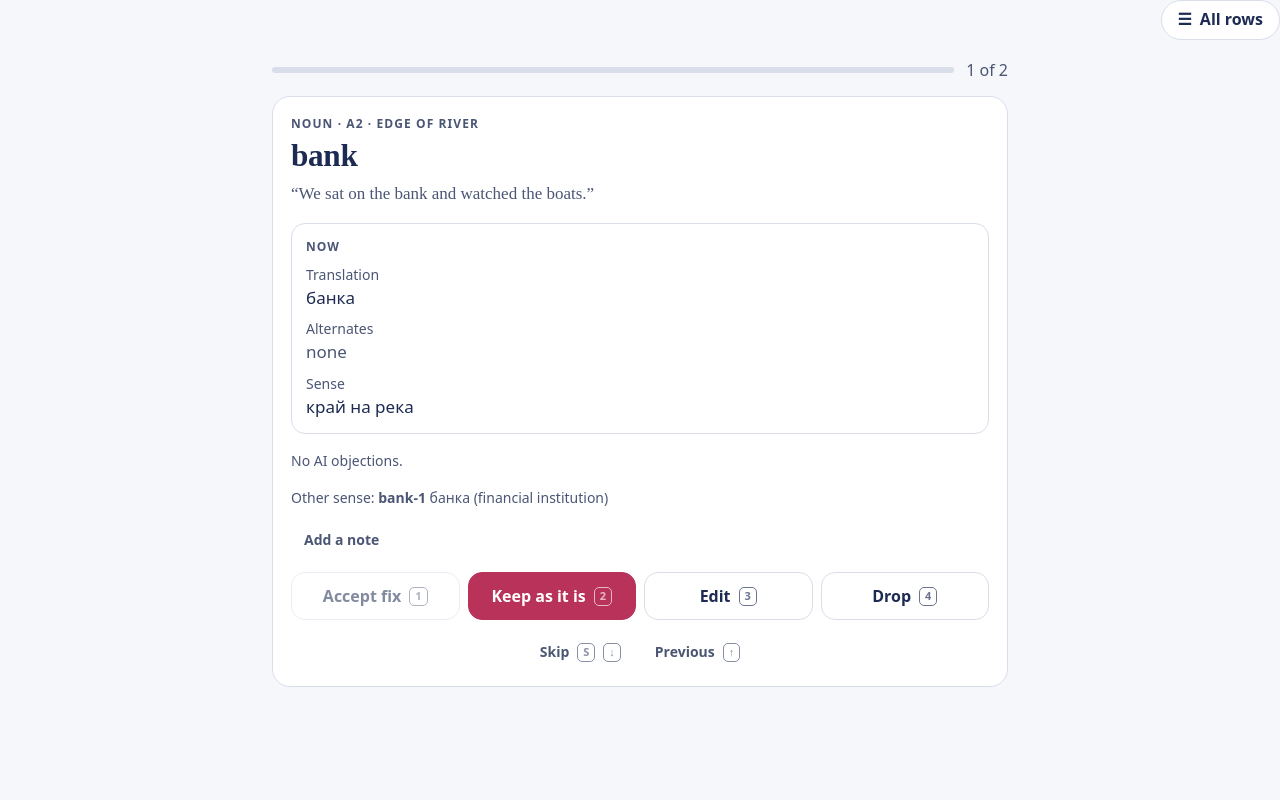
Test: ReviewScreen › has no row list while a row is being edited: All rows is disabled and L does nothing
Click the button "Edit 3". click: (728, 596)
box: x1=644 y1=572 x2=812 y2=620
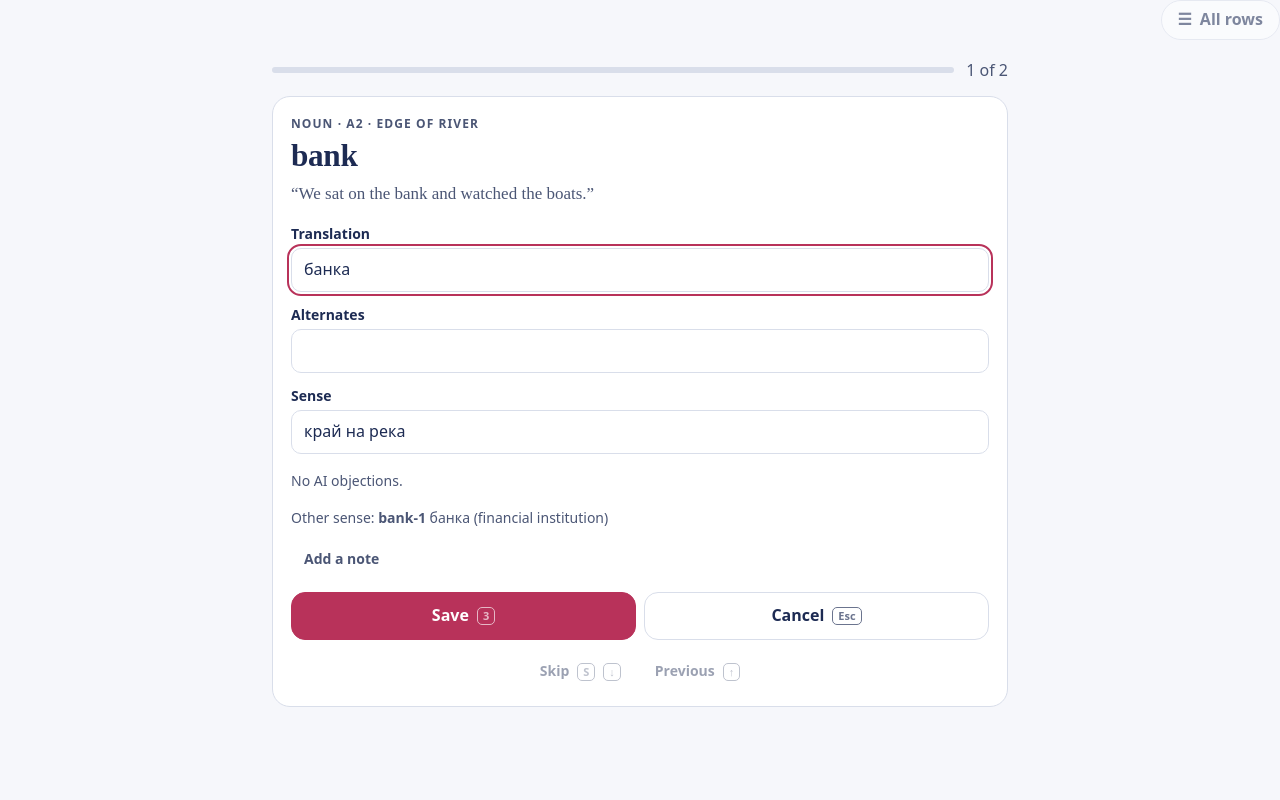
Replace the text in the field labelled "Translation" with "речен бряг". click: (640, 270)
box: x1=291 y1=248 x2=989 y2=292
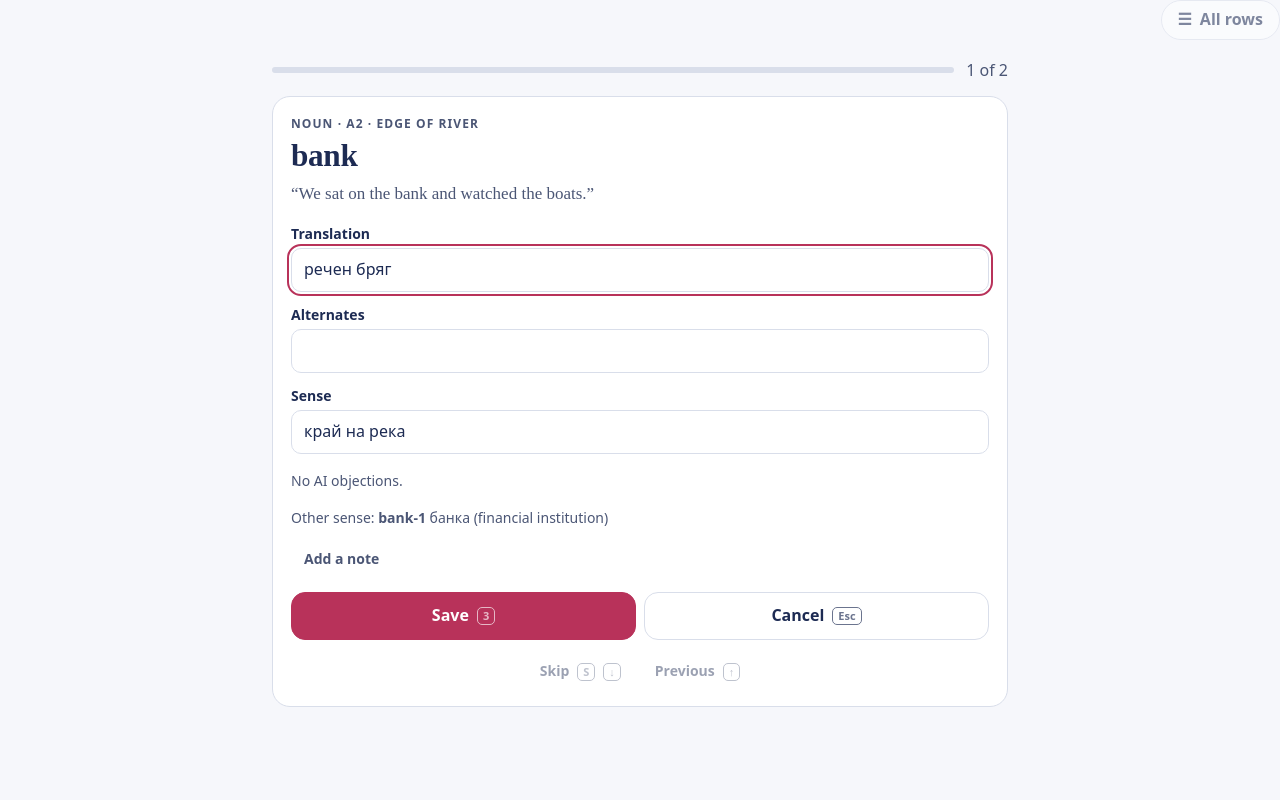
expect the button "☰ All rows" is disabled: met, box x1=1160 y1=0 x2=1279 y2=40
Press l
Press L
Press Escape
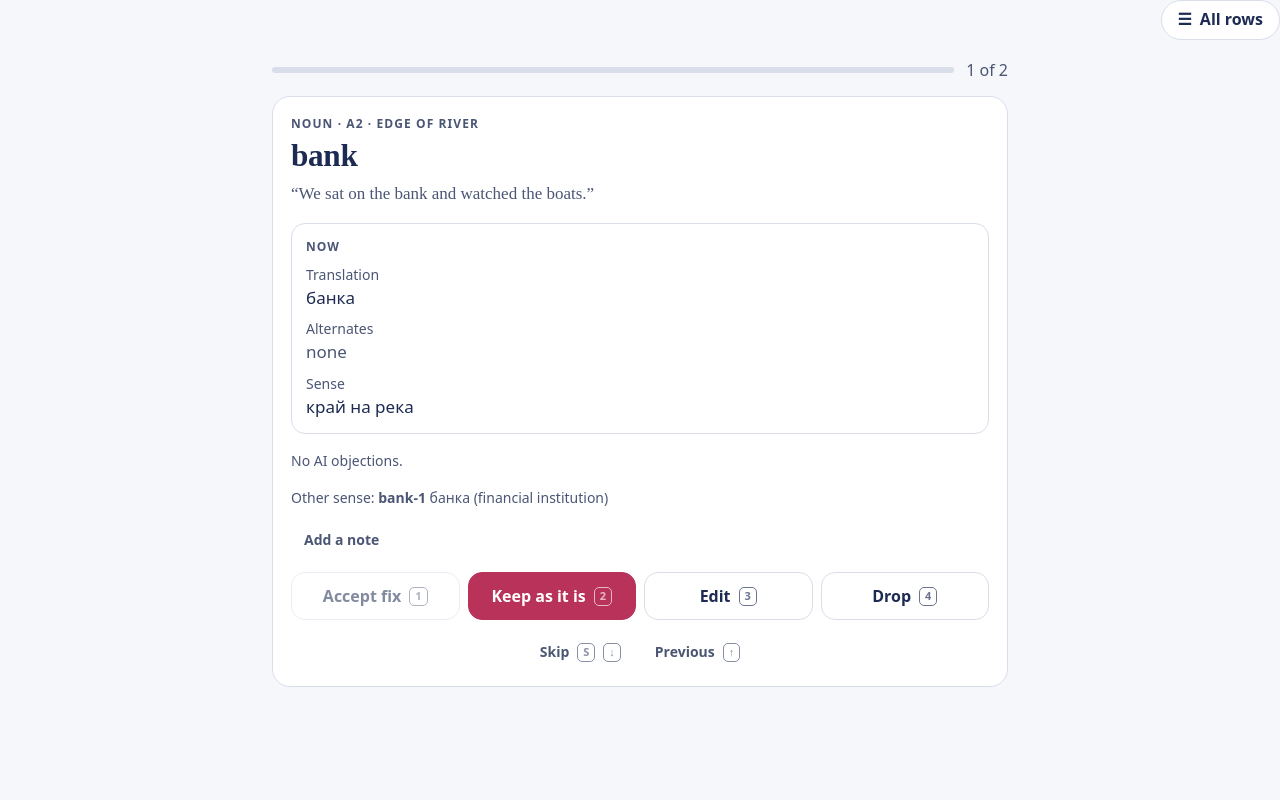
expect the button "☰ All rows" is enabled: met, box x1=1160 y1=0 x2=1279 y2=40
Press l
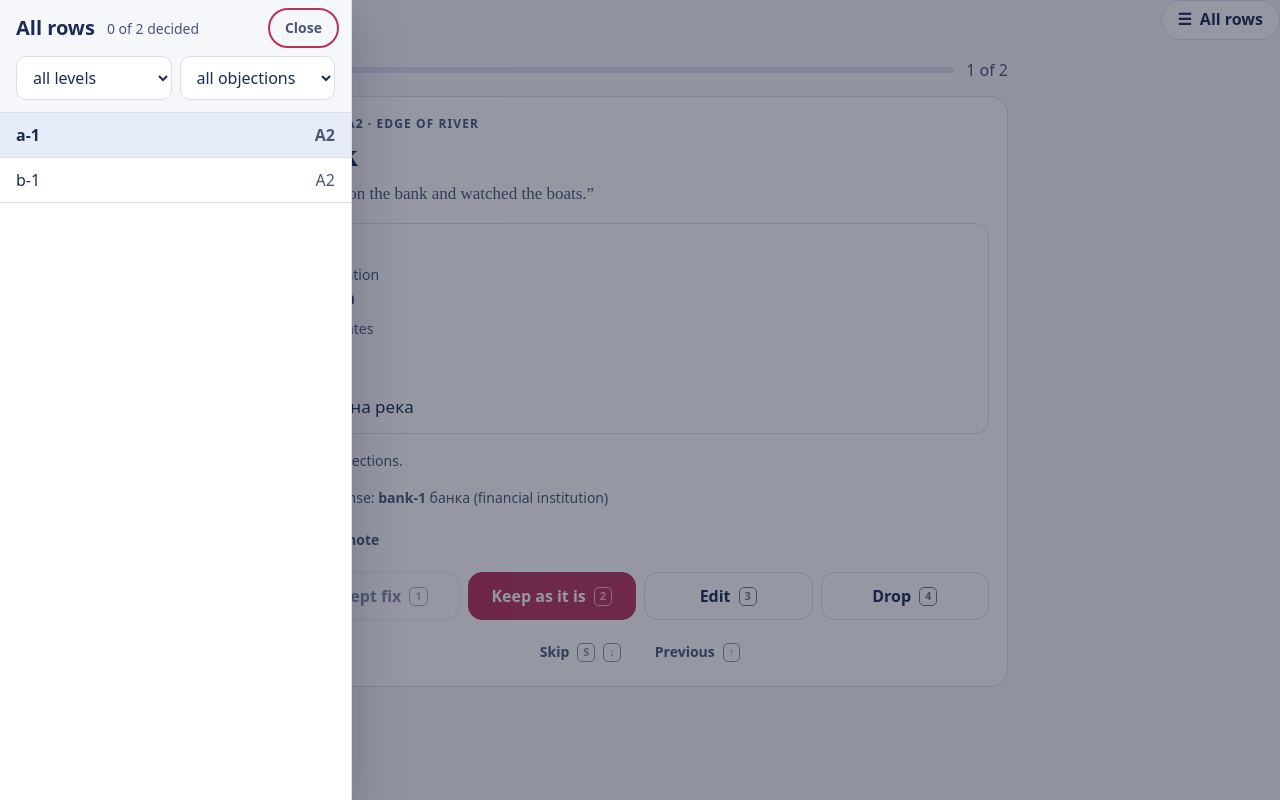
expect the dialog "All rows" is shown: met, box x1=0 y1=0 x2=352 y2=799
